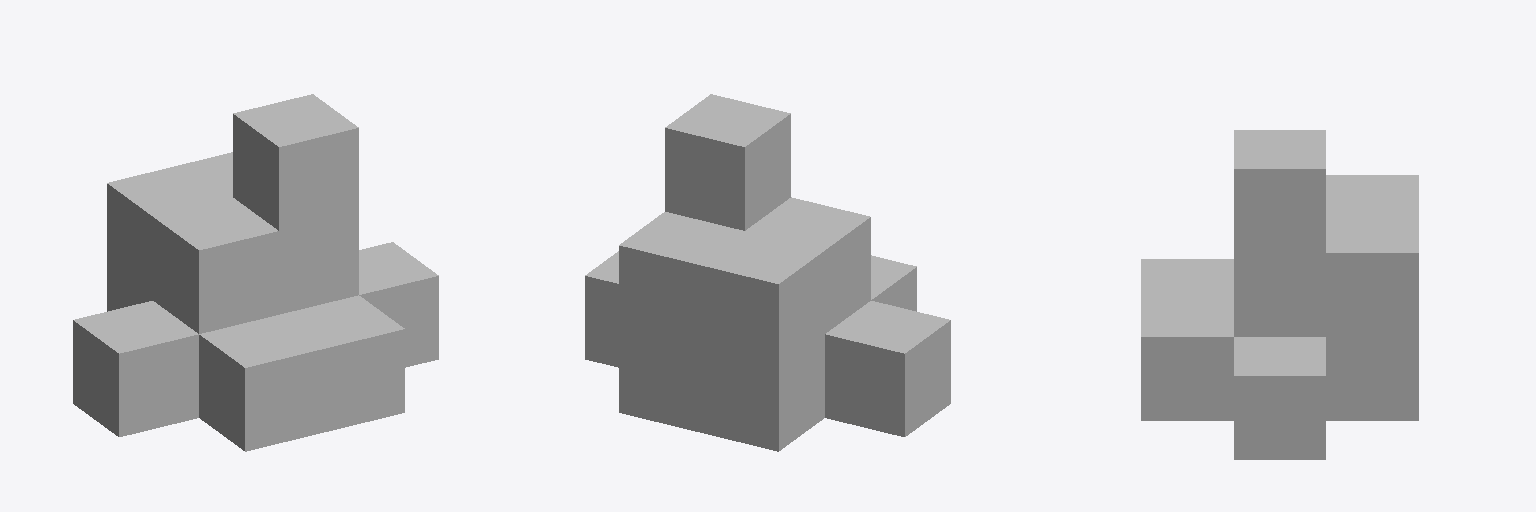
The model's file is Rock.obj.
3 renders of one model, left to right at view 1: azimuth 30°, elevation 25°; view 2: azimuth 150°, elevation 25°; view 3: azimuth 270°, elevation 25°, orthographic.
Bounding box in the file's own units: 4 × 3 × 3.